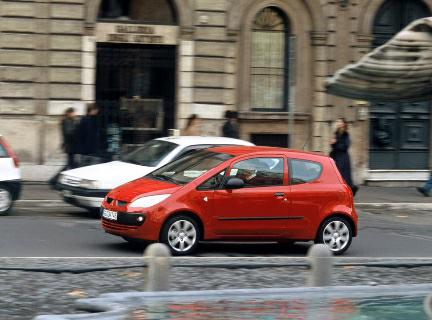三菱-Colt: (99, 147, 369, 254)
